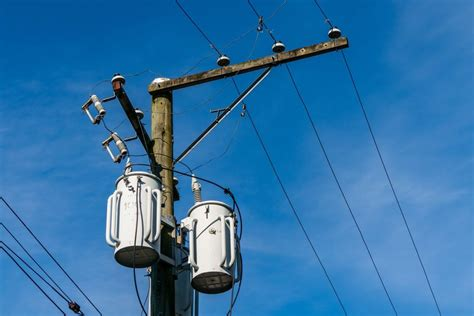pole: (69, 18, 376, 316)
